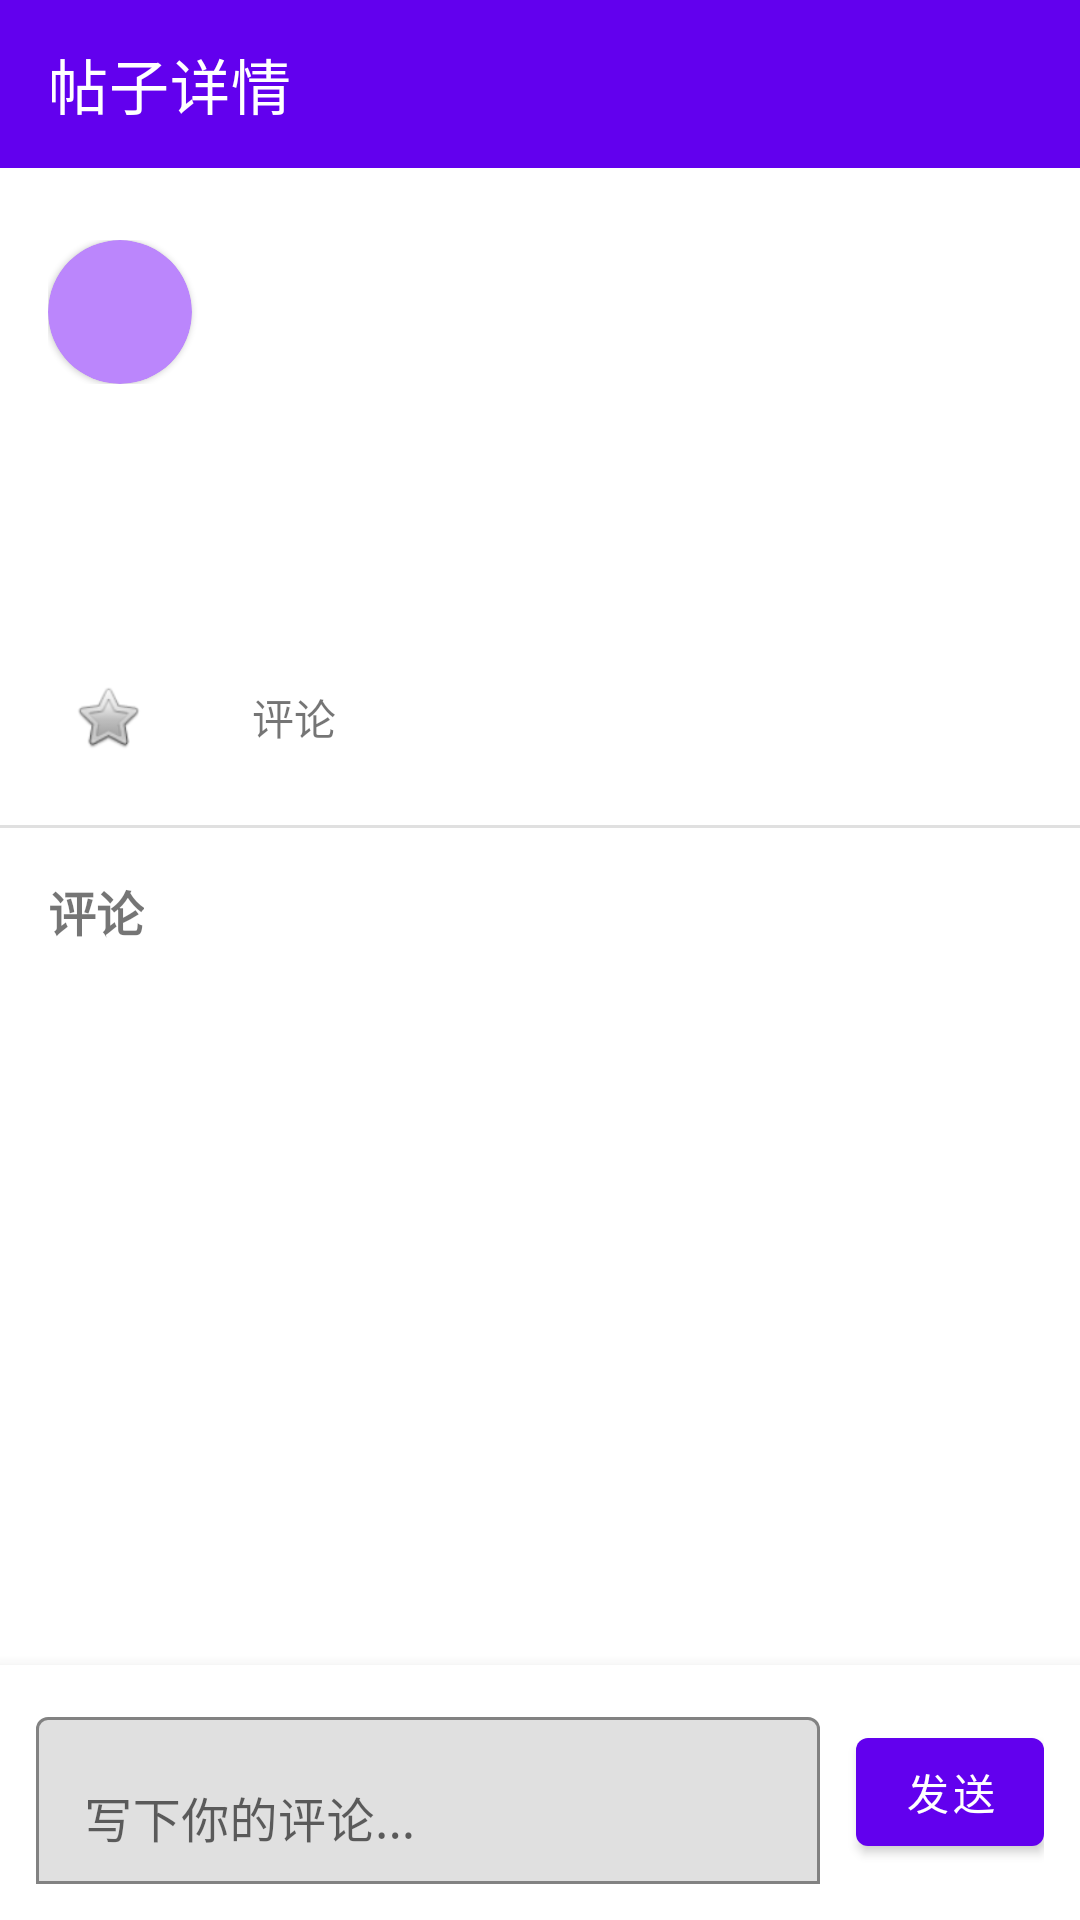

Icon bounding boxes for this 1080*1920 phone screenshot, format (x1, y1, x2, y2):
star: (79, 688, 139, 747)
